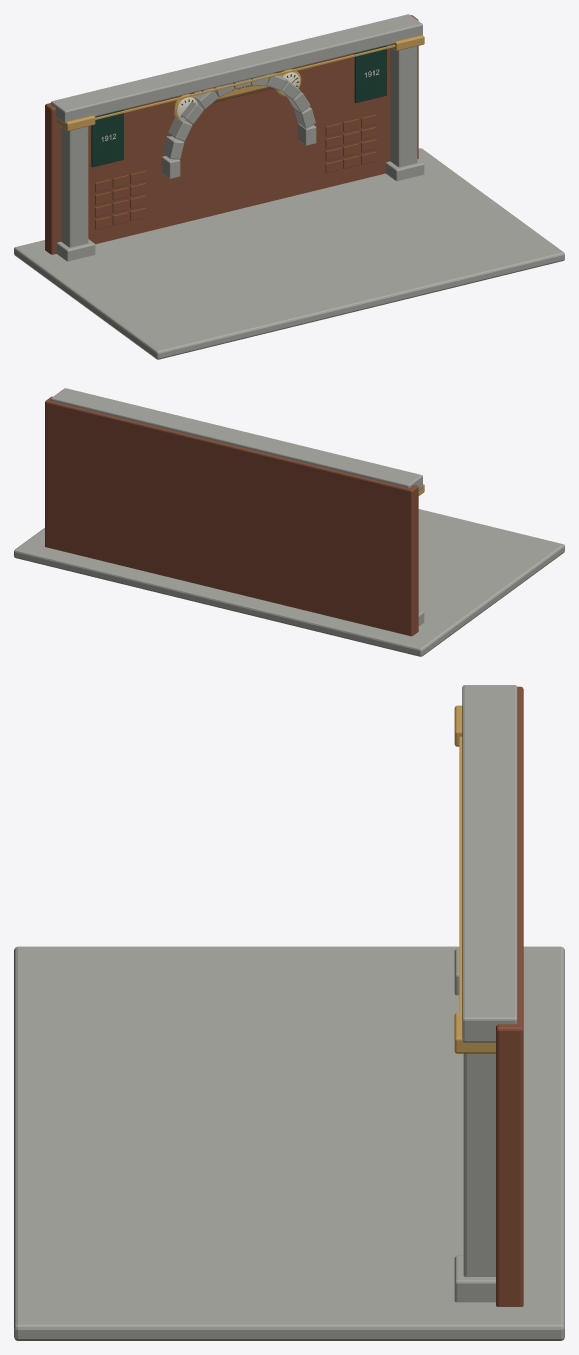
File: Welcome_Workshop_Stage_LOD0.fbx
3 renders of one model, top to bottom at view 1: azimuth 30°, elevation 25°; view 2: azimuth 150°, elevation 25°; view 3: azimuth 270°, elevation 25°, orthographic. The views are drawn at different scales.
Parts seen in each view (by area): view 1: Welcome_Workshop_Stage_OPT_Merged_ENV_Welcome_Stone_OPT_DATA, Welcome_Workshop_Stage_OPT_Merged_ENV_Welcome_Brick_OPT_DATA, Welcome_Workshop_Stage_OPT_Merged_RB_Paint_RacingGreen_OPT_D, Welcome_Workshop_Stage_OPT_Merged_ENV_Welcome_Brass_OPT_DATA, Welcome_Workshop_Stage_OPT_Merged_RB_Ivory_Number_OPT_DATA; view 2: Welcome_Workshop_Stage_OPT_Merged_ENV_Welcome_Brick_OPT_DATA, Welcome_Workshop_Stage_OPT_Merged_ENV_Welcome_Stone_OPT_DATA; view 3: Welcome_Workshop_Stage_OPT_Merged_ENV_Welcome_Stone_OPT_DATA, Welcome_Workshop_Stage_OPT_Merged_ENV_Welcome_Brick_OPT_DATA, Welcome_Workshop_Stage_OPT_Merged_ENV_Welcome_Brass_OPT_DATA.
Boxes of the visible parts, bbox=[...] form: Welcome_Workshop_Stage_OPT_Merged_ENV_Welcome_Stone_OPT_DATA: bbox=[14, 14, 564, 359]; Welcome_Workshop_Stage_OPT_Merged_ENV_Welcome_Brick_OPT_DATA: bbox=[45, 15, 418, 254]; Welcome_Workshop_Stage_OPT_Merged_RB_Paint_RacingGreen_OPT_D: bbox=[91, 45, 386, 167]; Welcome_Workshop_Stage_OPT_Merged_ENV_Welcome_Brass_OPT_DATA: bbox=[56, 35, 424, 131]; Welcome_Workshop_Stage_OPT_Merged_RB_Ivory_Number_OPT_DATA: bbox=[101, 69, 379, 141]; Welcome_Workshop_Stage_OPT_Merged_ENV_Welcome_Brick_OPT_DATA: bbox=[45, 396, 418, 636]; Welcome_Workshop_Stage_OPT_Merged_ENV_Welcome_Stone_OPT_DATA: bbox=[14, 388, 564, 656]; Welcome_Workshop_Stage_OPT_Merged_ENV_Welcome_Stone_OPT_DATA: bbox=[14, 685, 564, 1340]; Welcome_Workshop_Stage_OPT_Merged_ENV_Welcome_Brick_OPT_DATA: bbox=[496, 686, 523, 1306]; Welcome_Workshop_Stage_OPT_Merged_ENV_Welcome_Brass_OPT_DATA: bbox=[454, 705, 495, 1053].
Bounding box in the file's own units: 1800 × 663 × 1100.
Materials: 8 (1 with a texture image).
